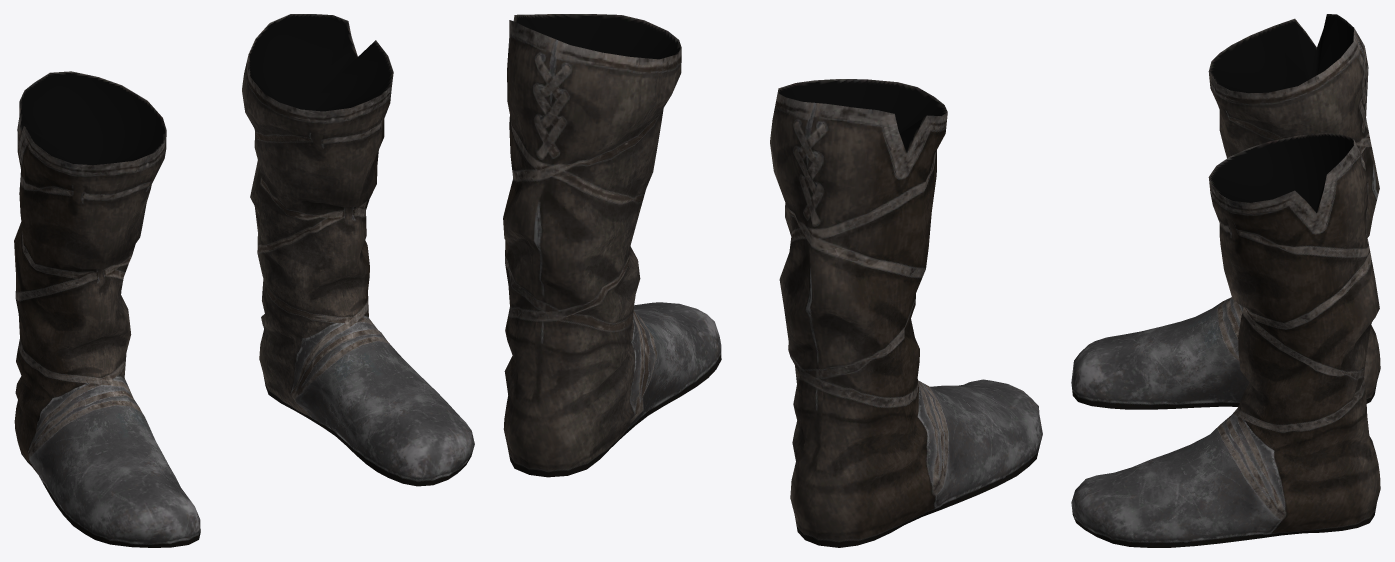
The model's file is sk_uruk_mordor_boots_a.fbx.
3 renders of one model, left to right at view 1: azimuth 30°, elevation 25°; view 2: azimuth 150°, elevation 25°; view 3: azimuth 270°, elevation 25°, orthographic. The views are drawn at different scales.
Visible parts, largest first — view 1: sk_uruk_mordor_boots_a; view 2: sk_uruk_mordor_boots_a; view 3: sk_uruk_mordor_boots_a.
Boxes of the visible parts, bbox=[...] form: sk_uruk_mordor_boots_a: bbox=[14, 14, 474, 547]; sk_uruk_mordor_boots_a: bbox=[503, 14, 1042, 547]; sk_uruk_mordor_boots_a: bbox=[1071, 14, 1380, 547].
Bounding box in the file's own units: 0.4878 × 0.3434 × 0.4522.
1 material, 1 textured.
